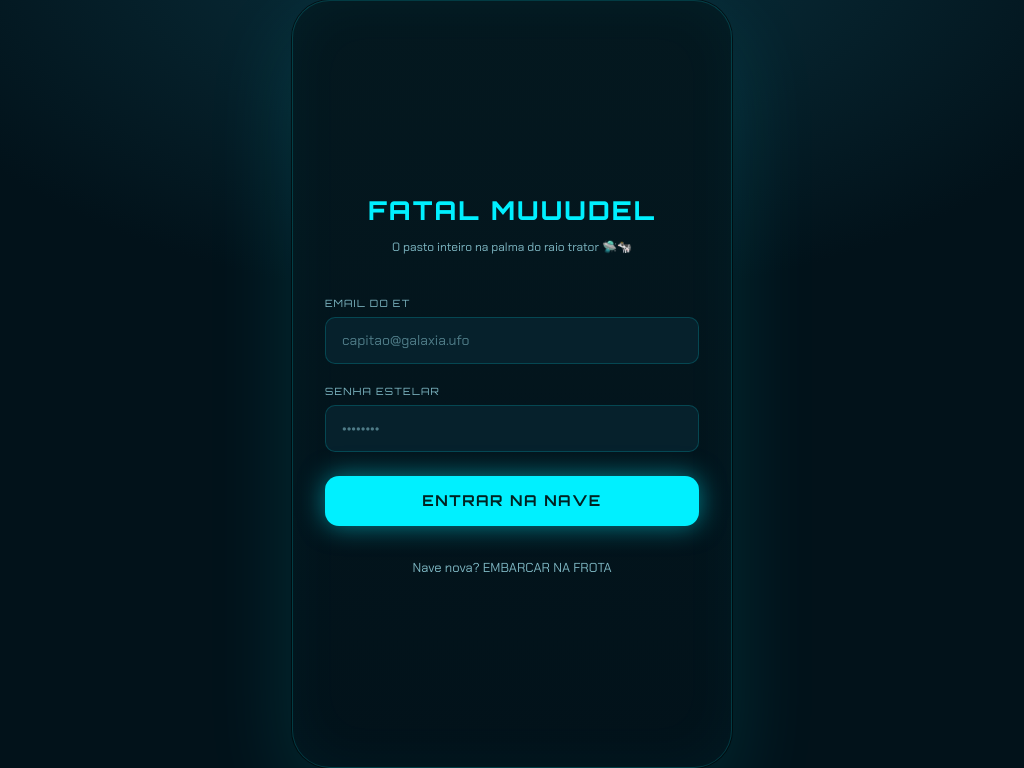
LoginPage › exibe erro temático quando signIn retorna erro
In the field with placeholder "capitao@galaxia.ufo": point(512, 340) [325, 316, 699, 364], type "zork@ufo.com"
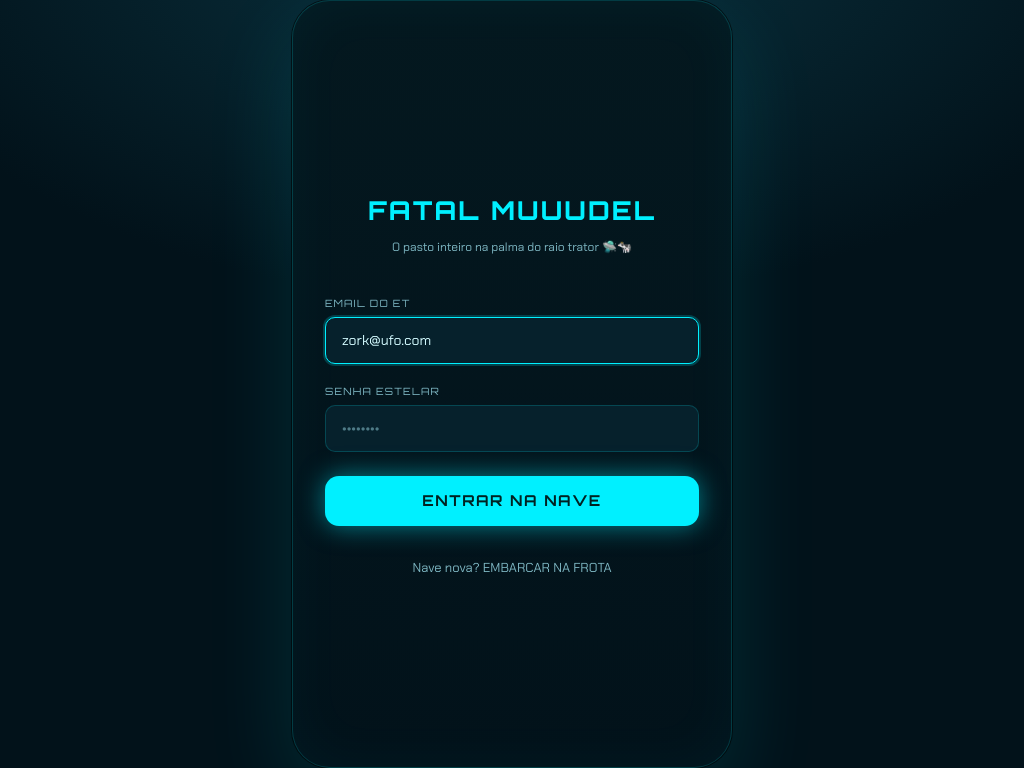
In the password field with placeholder "••••••••": point(512, 428) [325, 404, 699, 452], type "senhaerrada"
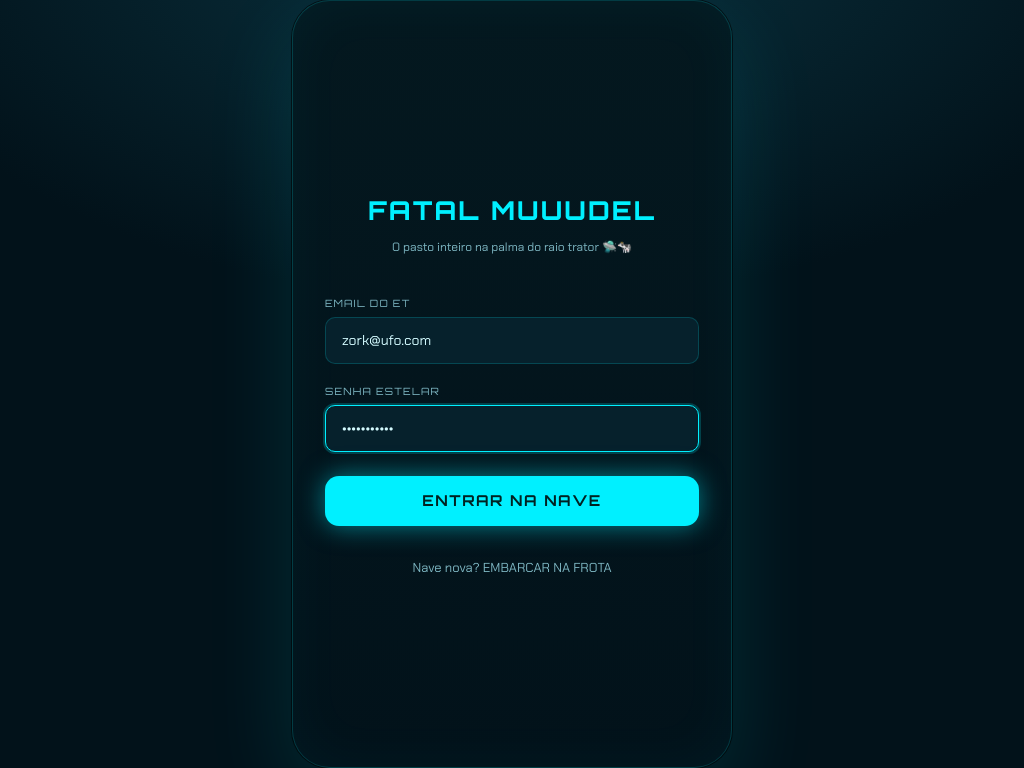
Click the button "ENTRAR NA NAVE": point(512, 501) [325, 476, 699, 526]
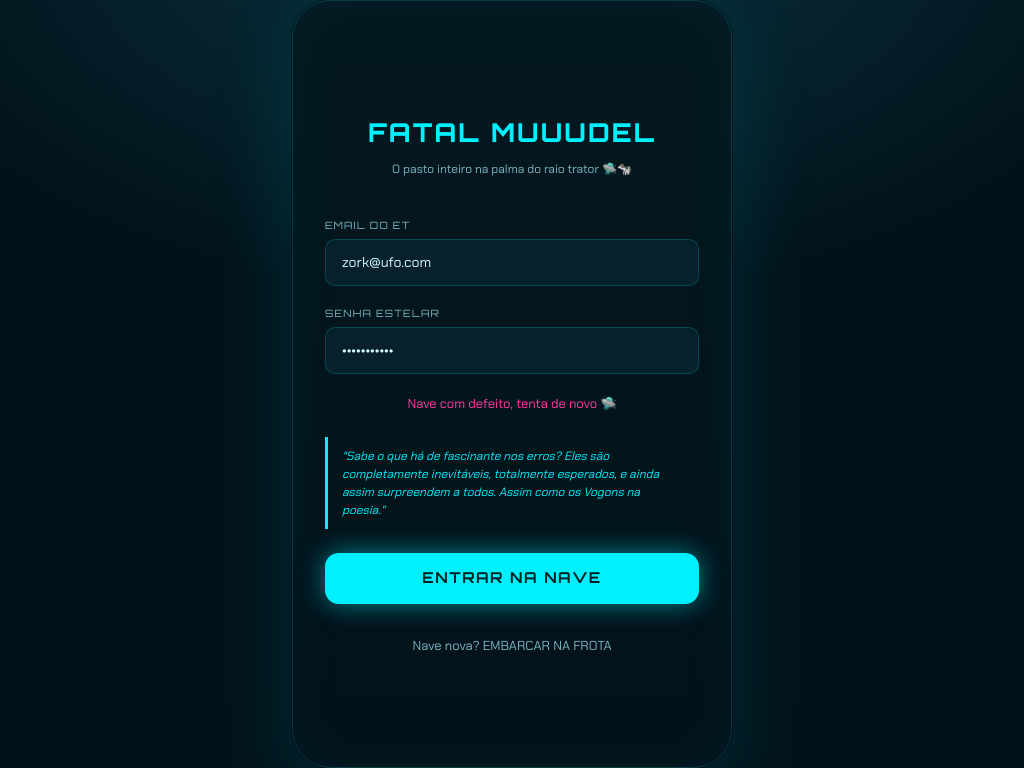
Result: the text "Nave com defeito, tenta de novo 🛸" is shown at [407, 395, 617, 412]
